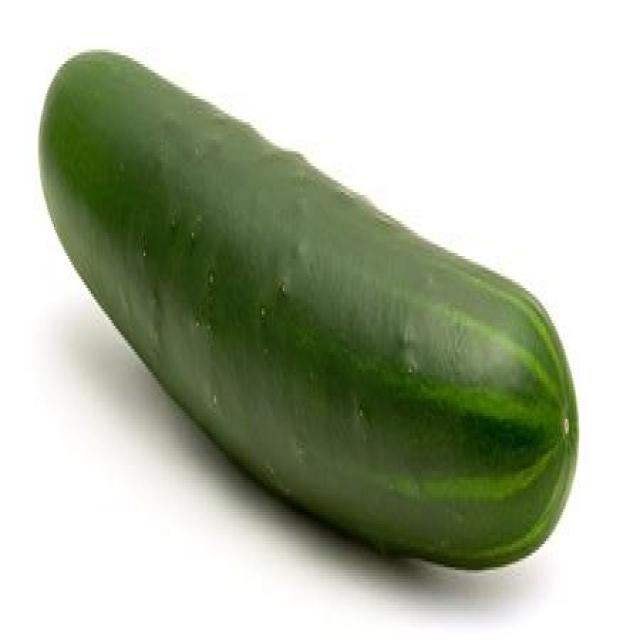cucumber: (39, 51, 580, 572)
